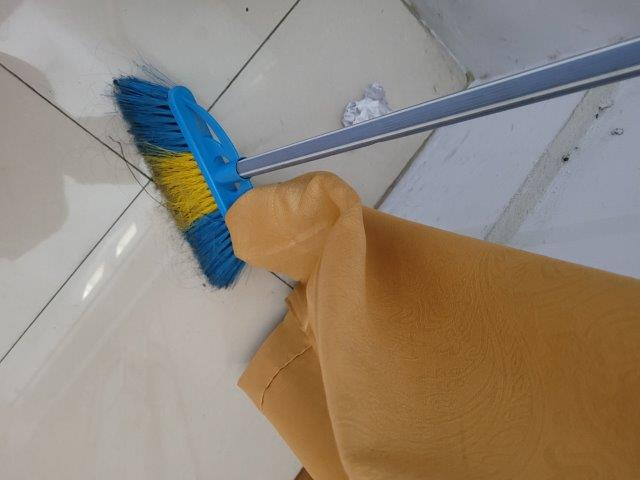kertas: (340, 86, 392, 127)
